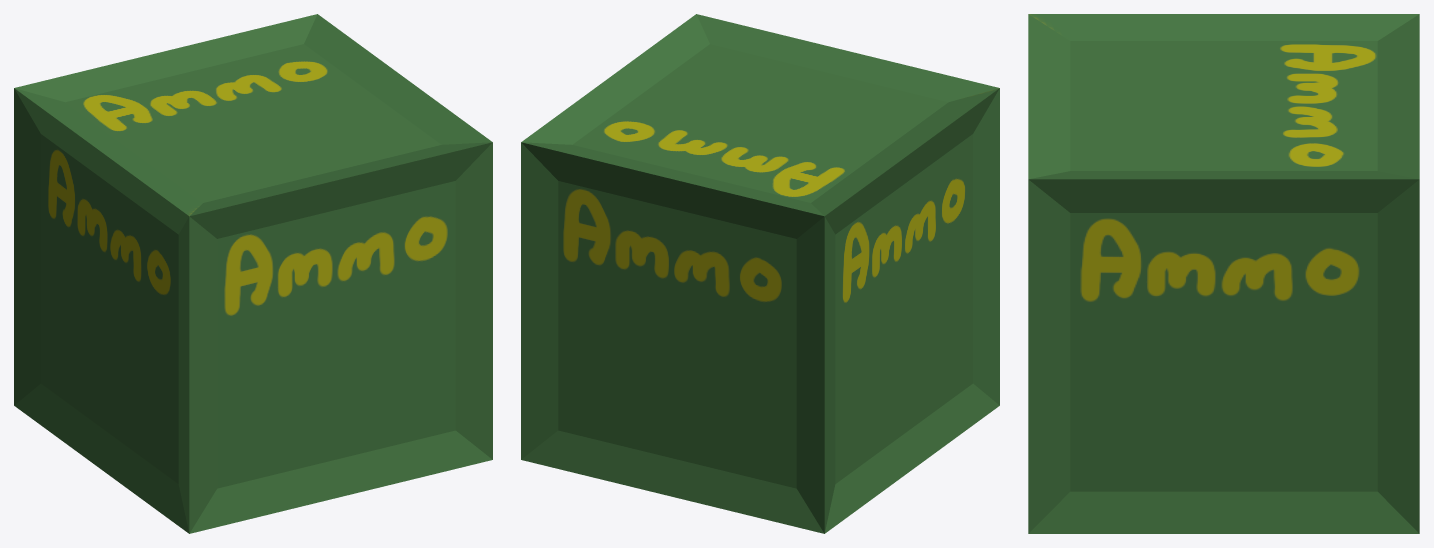
File: ammopack.glb
3 renders of one model, left to right at view 1: azimuth 30°, elevation 25°; view 2: azimuth 150°, elevation 25°; view 3: azimuth 270°, elevation 25°, orthographic. The views are drawn at different scales.
Visible parts, largest first — view 1: Cube; view 2: Cube; view 3: Cube.
Boxes of the visible parts, x1=… form: Cube: x1=14, y1=14, x2=492, y2=533; Cube: x1=521, y1=14, x2=999, y2=533; Cube: x1=1028, y1=14, x2=1419, y2=533.
Size of the model in its own units: 2 by 2 by 2.
1 material, 1 textured.
